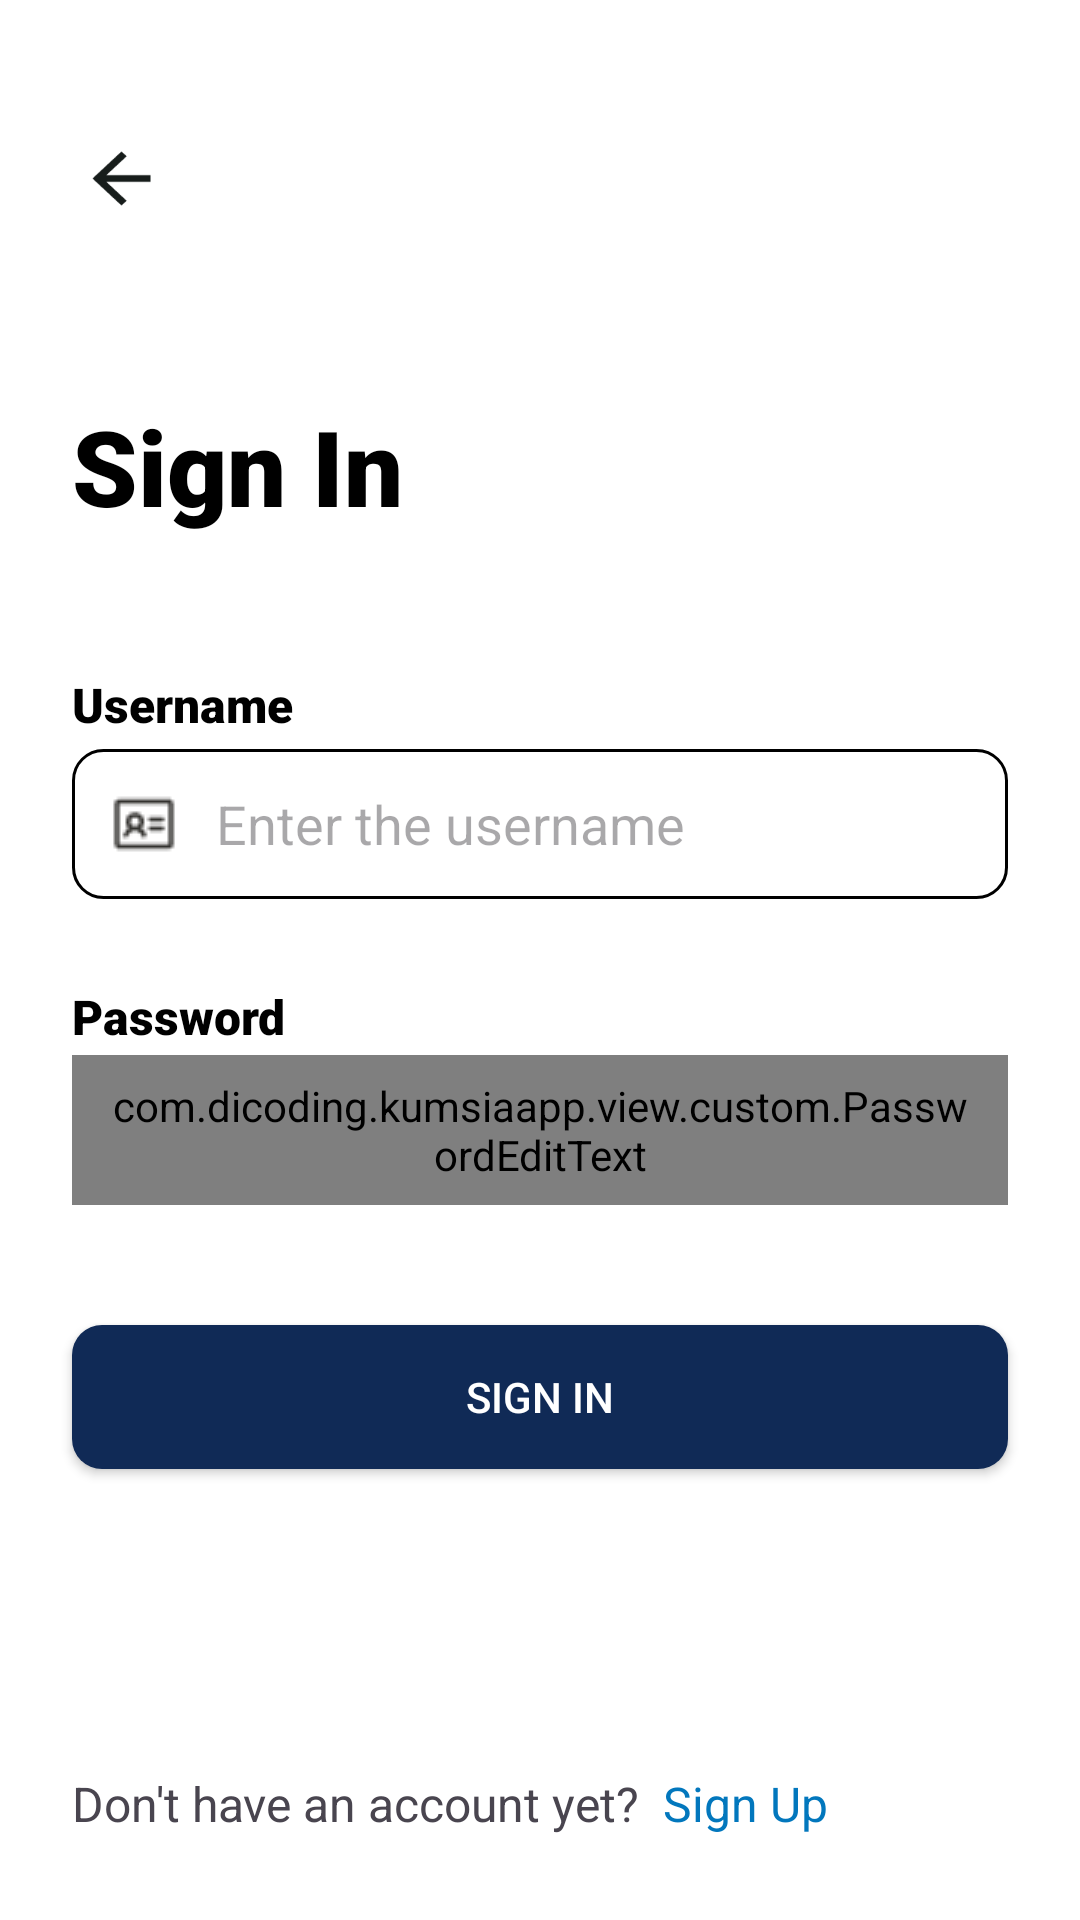

Icons on this 1080×1920 Android screen, each with the point to tap as (x,y):
Back: (121,178)
